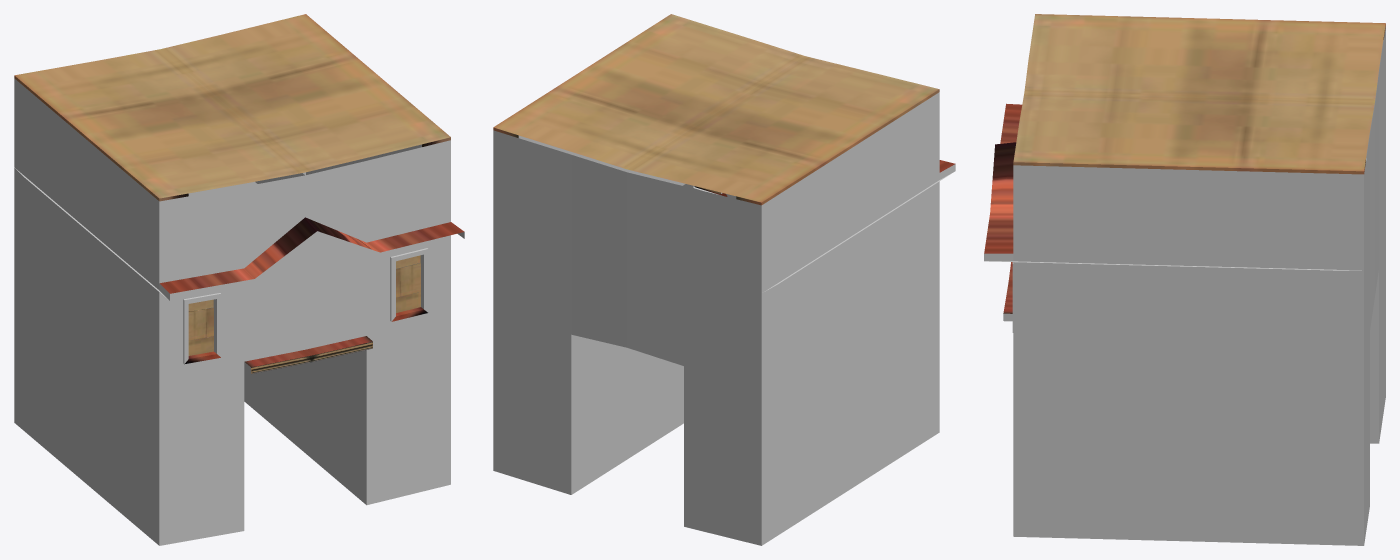
Rendered from Ponds Forge Archway.fbx.
3 views of the same model, side by side, from view 1: azimuth 30°, elevation 25°; view 2: azimuth 150°, elevation 25°; view 3: azimuth 270°, elevation 25° (orthographic). The views are drawn at different scales.
Visible parts, largest first — view 1: Ponds Forge Archway; view 2: Ponds Forge Archway; view 3: Ponds Forge Archway.
Boxes of the visible parts, box(x1,y1,x2,y2) form: Ponds Forge Archway: box(14, 14, 464, 545); Ponds Forge Archway: box(493, 14, 955, 545); Ponds Forge Archway: box(984, 14, 1385, 545).
Size of the model in its own units: 1284 by 1423 by 1372.
